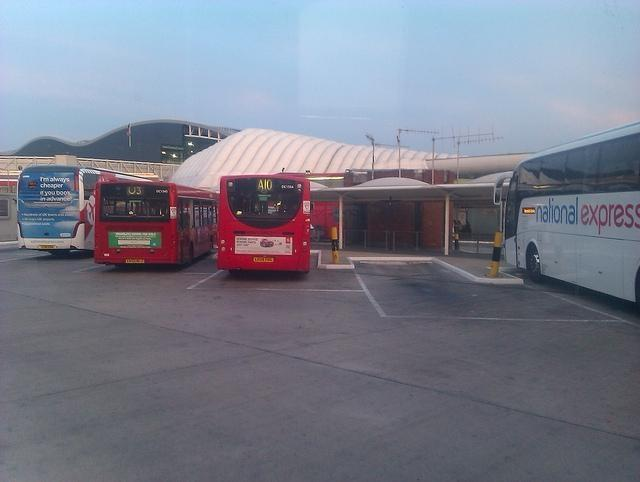bus: (497, 122, 640, 310), (12, 164, 169, 256), (93, 180, 219, 269), (220, 177, 314, 274)
